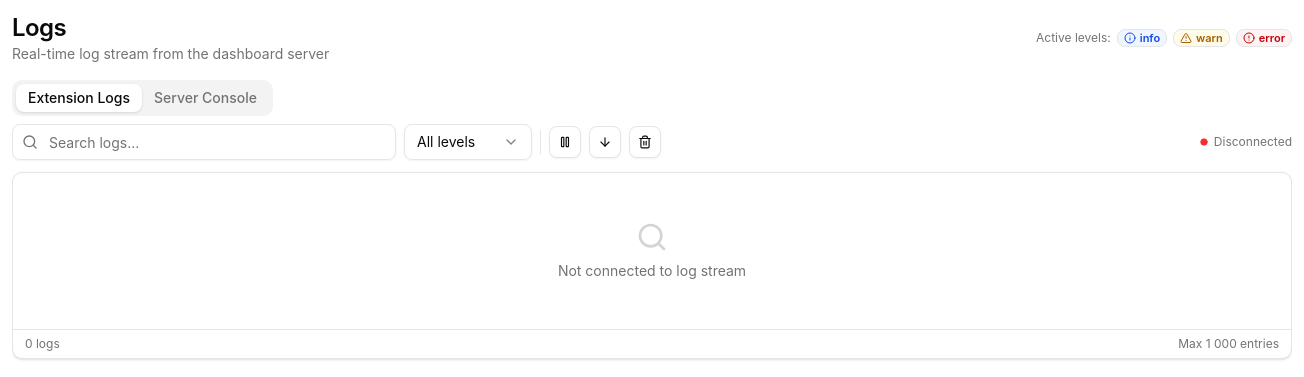
Test: LogsPage › renders console entries
Click the tab "Server Console".
click(206, 98)  # box top-left (142, 84), bottom-right (269, 112)
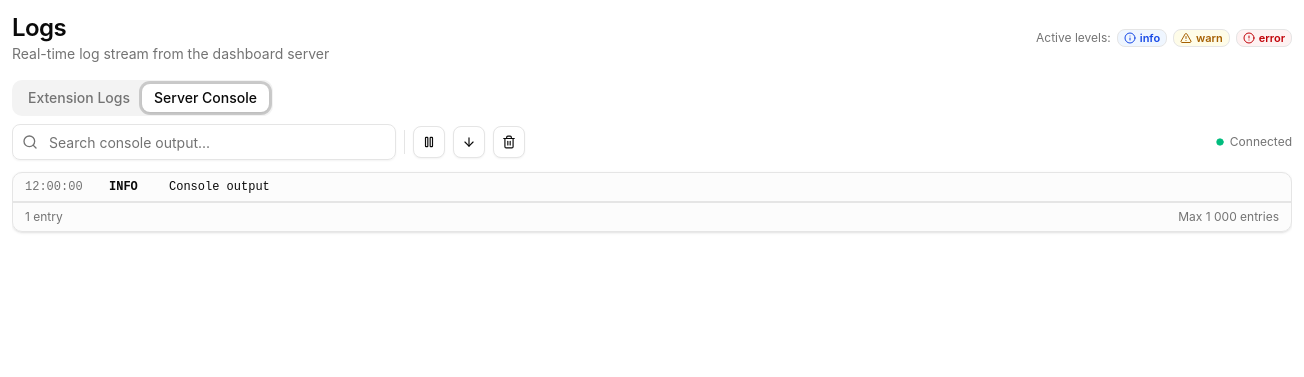
expect the text "Console output" is shown: met, box top-left (169, 180), bottom-right (270, 194)
